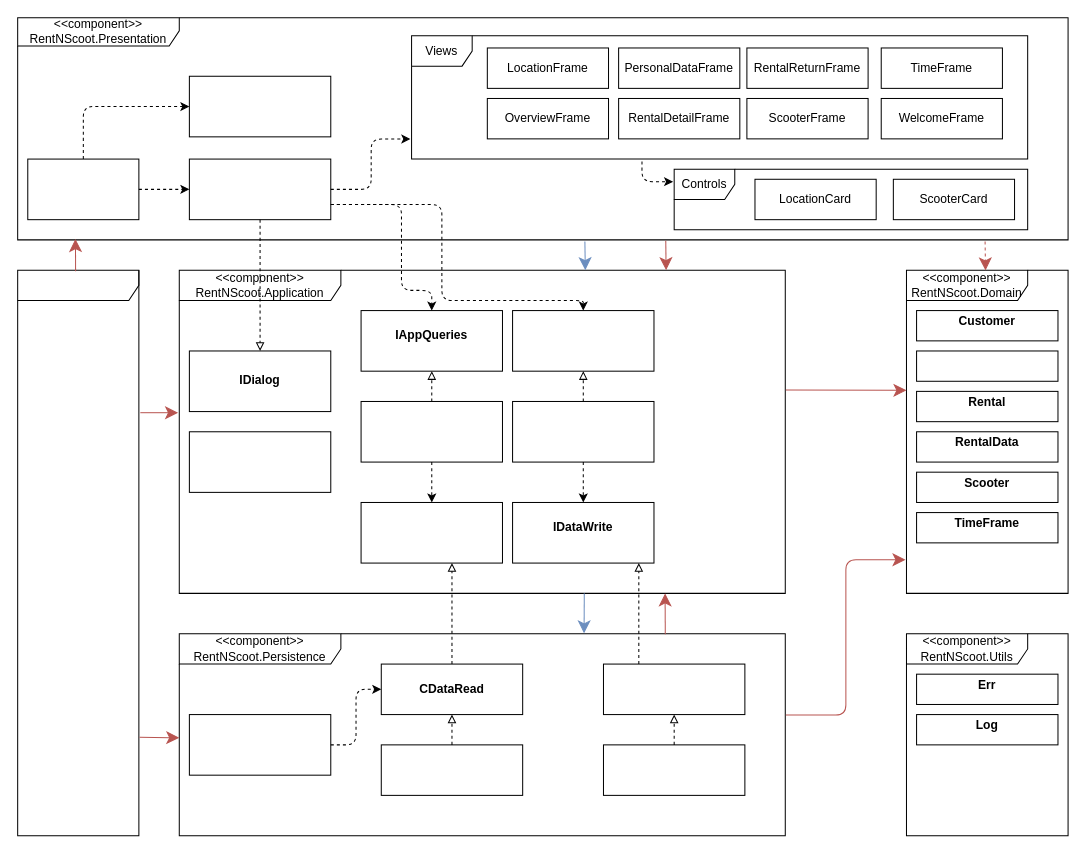
Image size: 1086x853. Some labels were removed from this diagram. Here are the shapes that lost their labels. From the top down, the centre of each, then its label:
(x=259, y=106): CvmMain
(x=83, y=189): AFactoryDialog
(x=259, y=189): CviMain
(x=583, y=340): IAppCommands
(x=987, y=365): Location
(x=431, y=431): CAppQueries
(x=583, y=431): CAppCommands
(x=259, y=461): AFactoryApp
(x=78, y=552): <<component>> RentNScoot.Start
(x=431, y=532): IDataRead
(x=673, y=689): CDataWrite
(x=259, y=744): AFactoryData
(x=451, y=769): ADataRead
(x=673, y=769): ADataWrite
